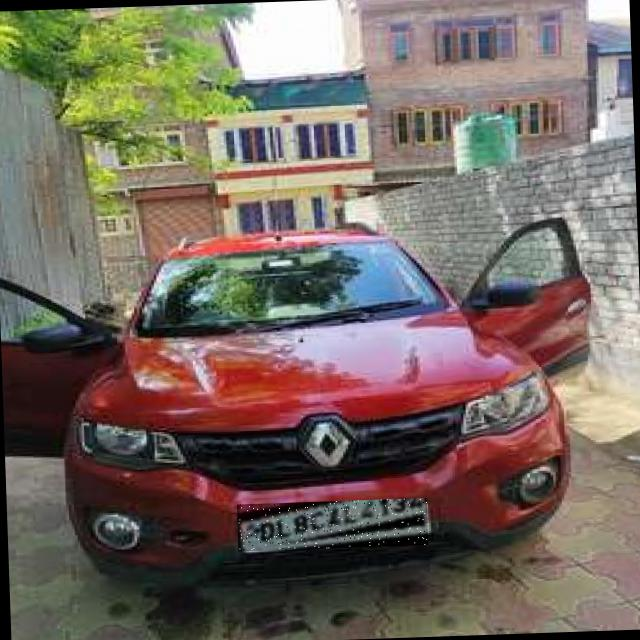Plate: (237, 498, 429, 552)
